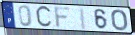0: (17, 4, 33, 28)
6: (93, 8, 109, 30)
C: (35, 4, 54, 29)
F: (53, 6, 72, 29)
I: (79, 7, 88, 31)
O: (110, 9, 129, 32)
